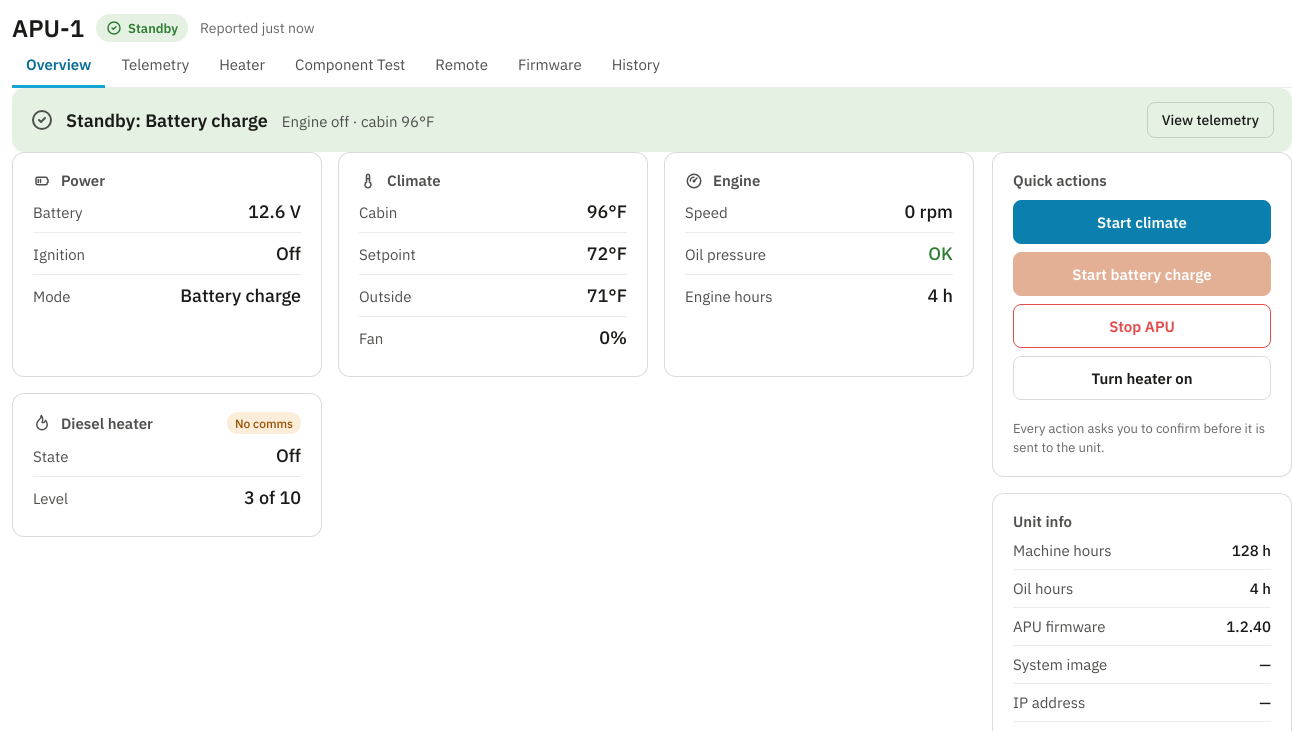
Test: UnitDetailPage › switches to the heater tab
The width and height of the screenshot is (1292, 731).
Click the tab "Heater". click: (242, 66)
box: [205,44,279,88]
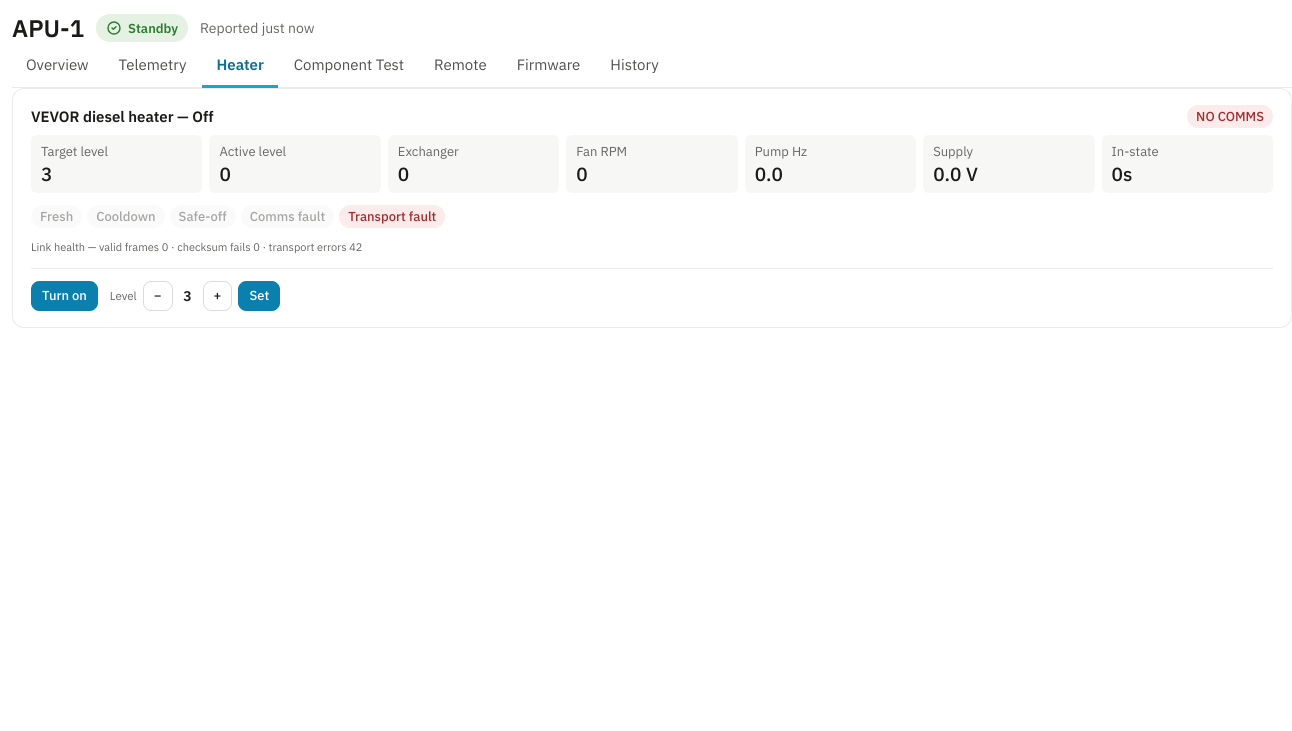
Expected: the text "VEVOR diesel heater — Off" is shown, [31,107,214,126]
